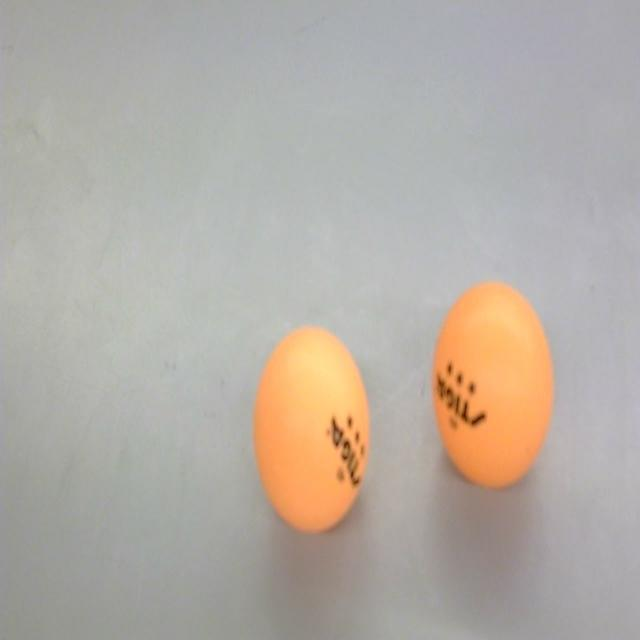ball: (430, 272, 557, 492), (252, 319, 372, 537)
